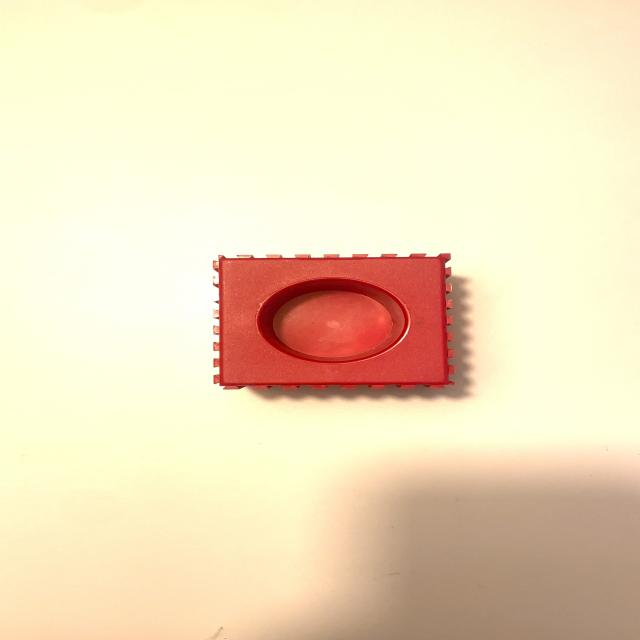Empty_Slot: (213, 254, 453, 389)
